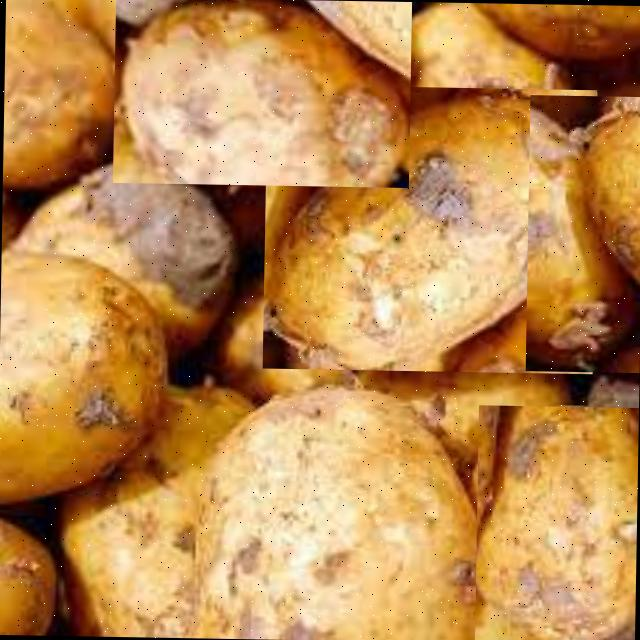Damaged potato: (262, 84, 597, 374), (207, 382, 483, 640), (5, 137, 267, 376), (43, 376, 258, 638), (112, 0, 411, 187), (474, 404, 638, 640), (525, 94, 640, 372)
